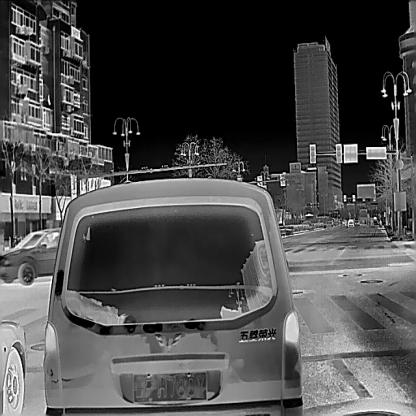bus: (359, 208, 367, 224)
car: (41, 176, 303, 414), (0, 226, 62, 284), (346, 219, 354, 226)
